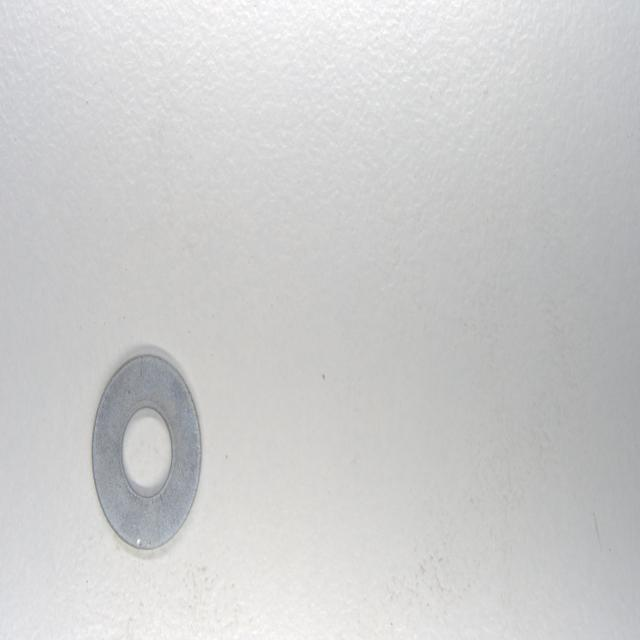washer: (90, 354, 202, 551)
